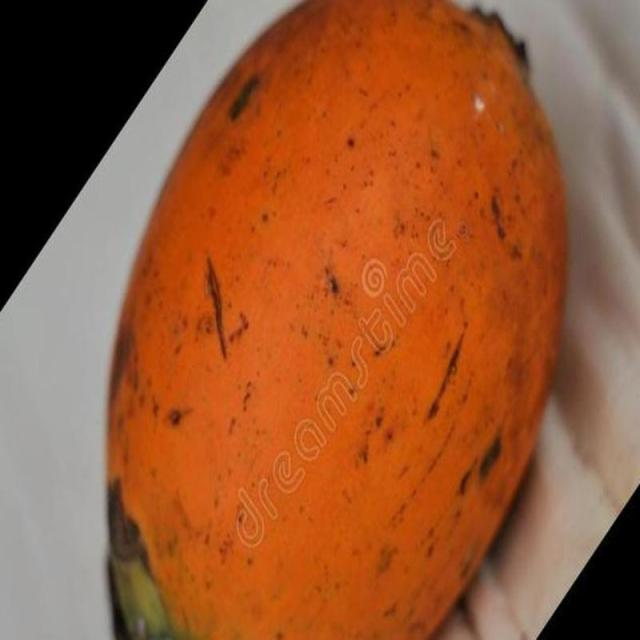good: (102, 0, 570, 639)
